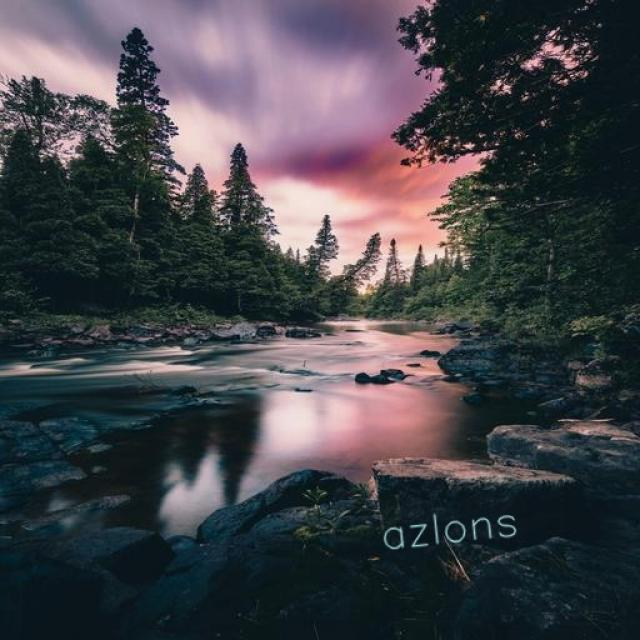watermark: (371, 501, 519, 557)
